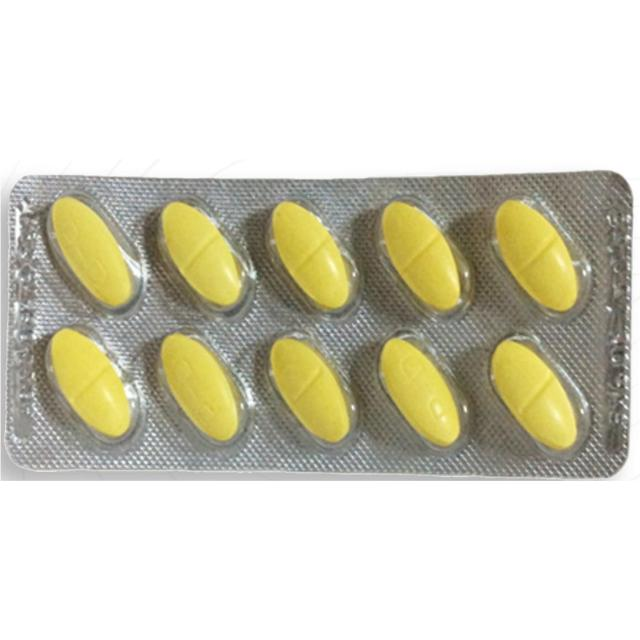blister: (1, 163, 637, 478)
